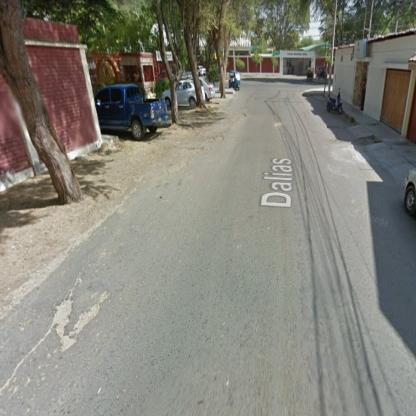Moto: (327, 88, 344, 115)
Obstaculo: (3, 273, 111, 391), (152, 146, 205, 174), (215, 113, 248, 134), (186, 133, 225, 143), (328, 128, 340, 133)
Vehiculo: (95, 85, 173, 142), (229, 71, 242, 92)
